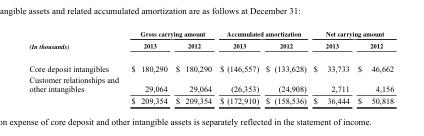table: (28, 28, 393, 104)
table column: (28, 28, 124, 104), (261, 28, 309, 104), (124, 28, 170, 104), (215, 28, 261, 104), (170, 28, 215, 104), (309, 28, 352, 104), (352, 28, 393, 104)
table column header: (28, 28, 393, 56)
table row: (28, 73, 393, 94), (28, 39, 393, 56), (28, 56, 393, 73), (28, 28, 393, 39), (28, 94, 393, 104)
table spanning cell: (28, 28, 124, 56), (215, 28, 309, 39), (124, 28, 215, 39), (309, 28, 393, 39)
